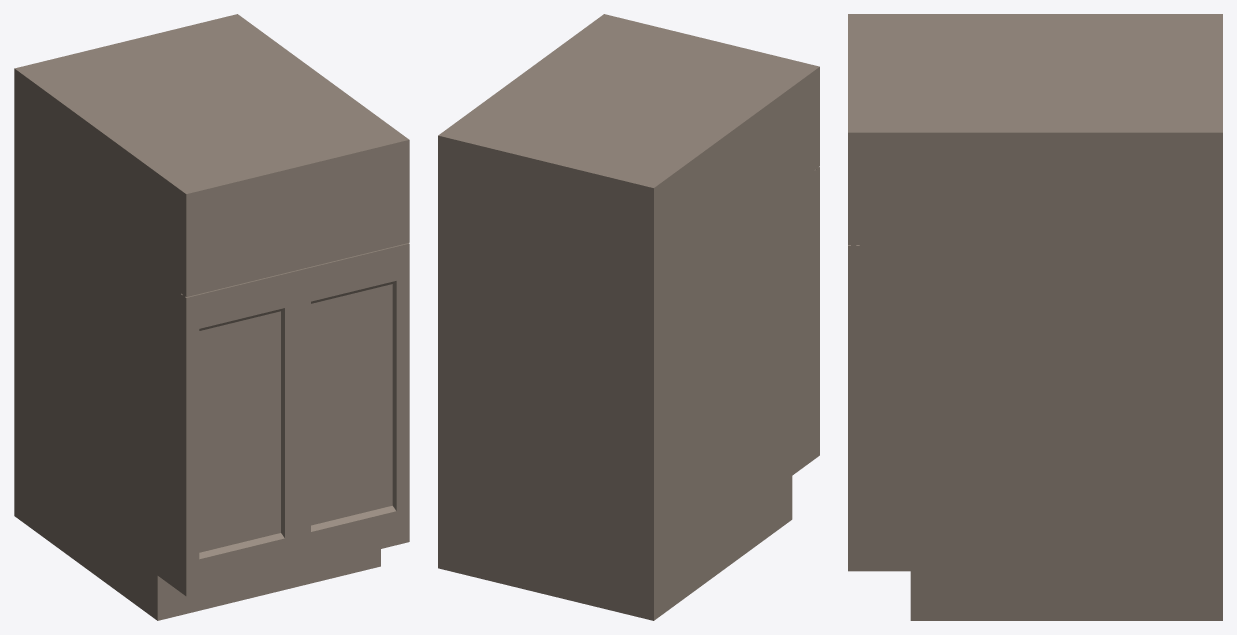
Rendered from Base-Cabinet-Double-Door-One-Drawer-24-Deep_std_001_W18in.glb.
3 views of the same model, side by side, from view 1: azimuth 30°, elevation 25°; view 2: azimuth 150°, elevation 25°; view 3: azimuth 270°, elevation 25° (orthographic). The views are drawn at different scales.
Visible parts, largest first — view 1: Base-Cabinet-Double-Door-One-Drawer-24-Deep.std.001_W18in; view 2: Base-Cabinet-Double-Door-One-Drawer-24-Deep.std.001_W18in; view 3: Base-Cabinet-Double-Door-One-Drawer-24-Deep.std.001_W18in.
Boxes of the visible parts, x1,y1,x2,y2 form: Base-Cabinet-Double-Door-One-Drawer-24-Deep.std.001_W18in: (14,14,409,620); Base-Cabinet-Double-Door-One-Drawer-24-Deep.std.001_W18in: (438,14,819,620); Base-Cabinet-Double-Door-One-Drawer-24-Deep.std.001_W18in: (848,14,1222,620).
Size of the model in its own units: 0.4572 by 0.8763 by 0.6096.
